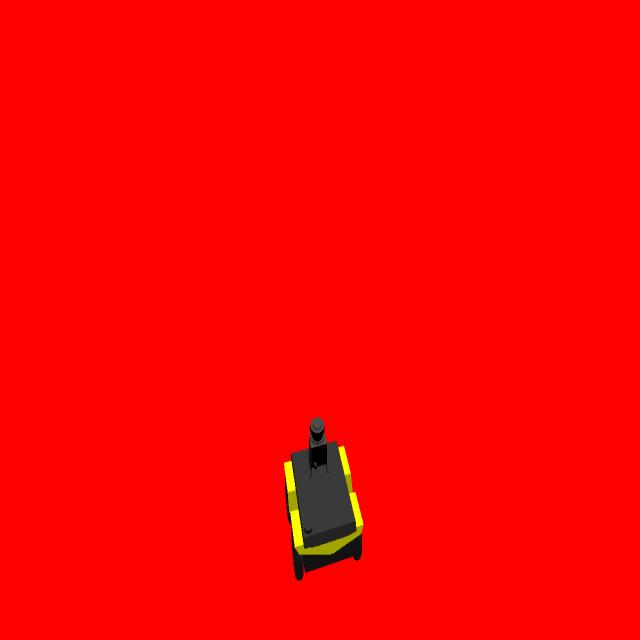jackal: (282, 414, 363, 584)
